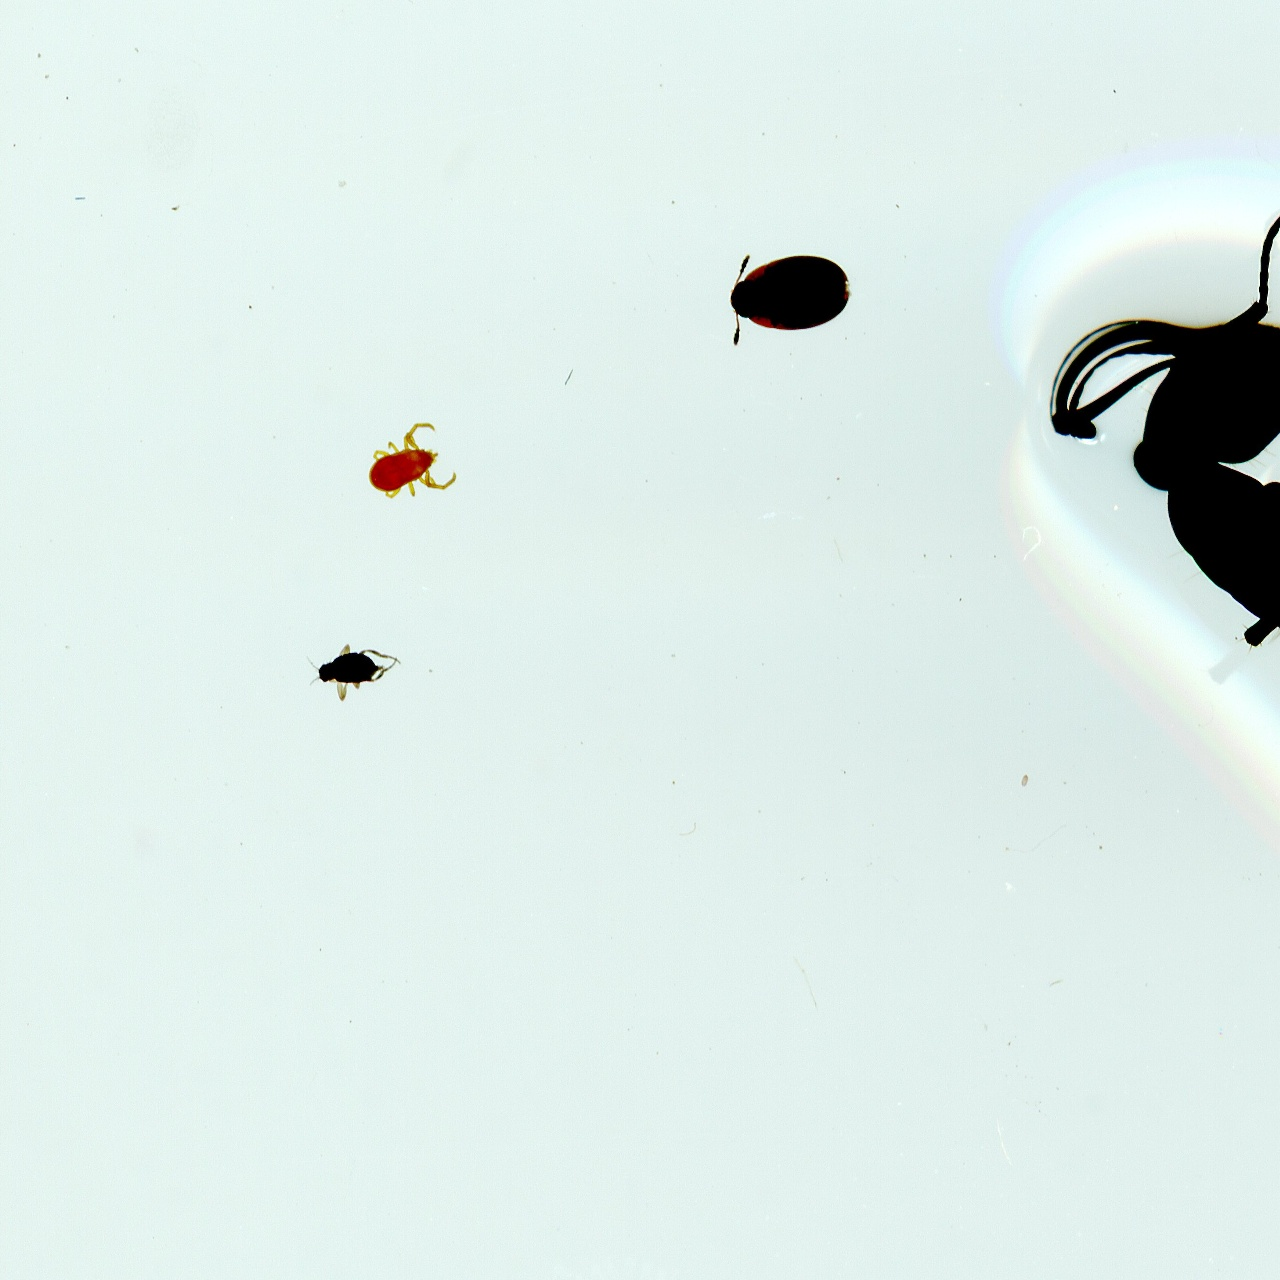arthropod: (982, 143, 1280, 921), (726, 234, 862, 350), (348, 408, 472, 527), (300, 641, 404, 702)
